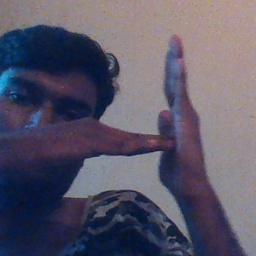Z: (116, 35, 213, 188)
